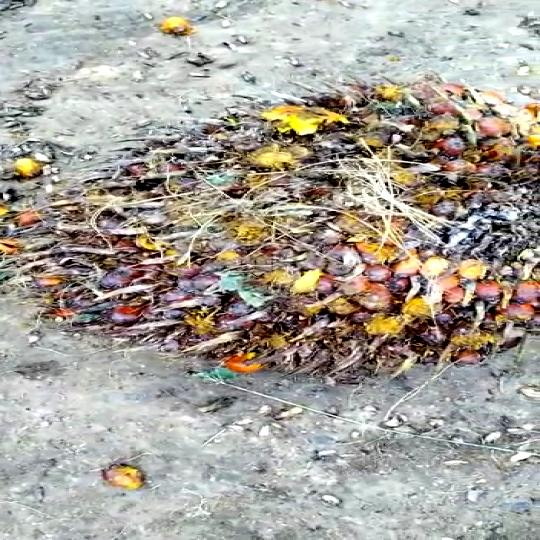masak: (19, 75, 540, 383)
